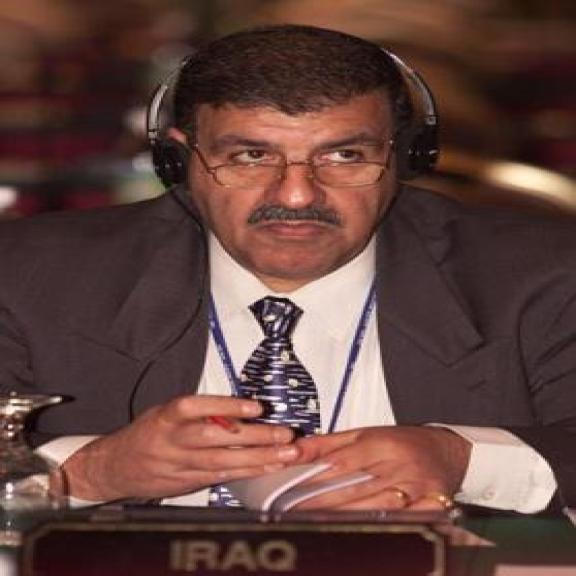face: (167, 96, 412, 278)
